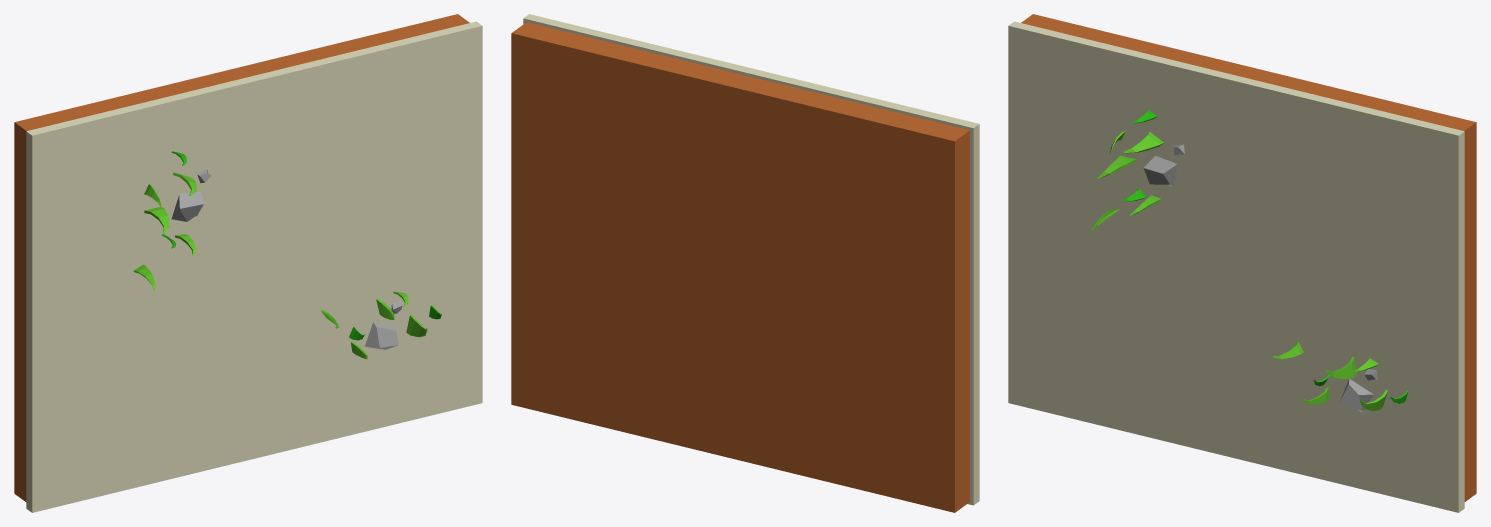
File: road.gltf
3 renders of one model, left to right at view 1: azimuth 30°, elevation 25°; view 2: azimuth 150°, elevation 25°; view 3: azimuth 330°, elevation 25°, orthographic.
Parts seen in each view (by area): view 1: Cube.007, Cube, Cube.012, Cube.009; view 2: Cube, Cube.007; view 3: Cube.007, Cube, Cube.009, Cube.012.
Part boxes in pixels (x1=…): Cube.007: x1=26, y1=21, x2=482, y2=512; Cube: x1=14, y1=14, x2=469, y2=501; Cube.012: x1=365, y1=322, x2=398, y2=349; Cube.009: x1=171, y1=191, x2=203, y2=221; Cube: x1=511, y1=22, x2=969, y2=512; Cube.007: x1=523, y1=14, x2=979, y2=505; Cube.007: x1=1008, y1=21, x2=1464, y2=512; Cube: x1=1021, y1=14, x2=1476, y2=501; Cube.009: x1=1143, y1=155, x2=1177, y2=186; Cube.012: x1=1339, y1=379, x2=1374, y2=412.
Bounding box in the file's own units: 2.03 × 1.63 × 0.3315.
